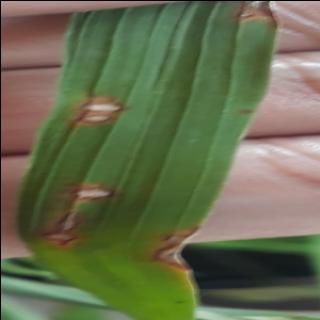Blast: (39, 173, 116, 255)
